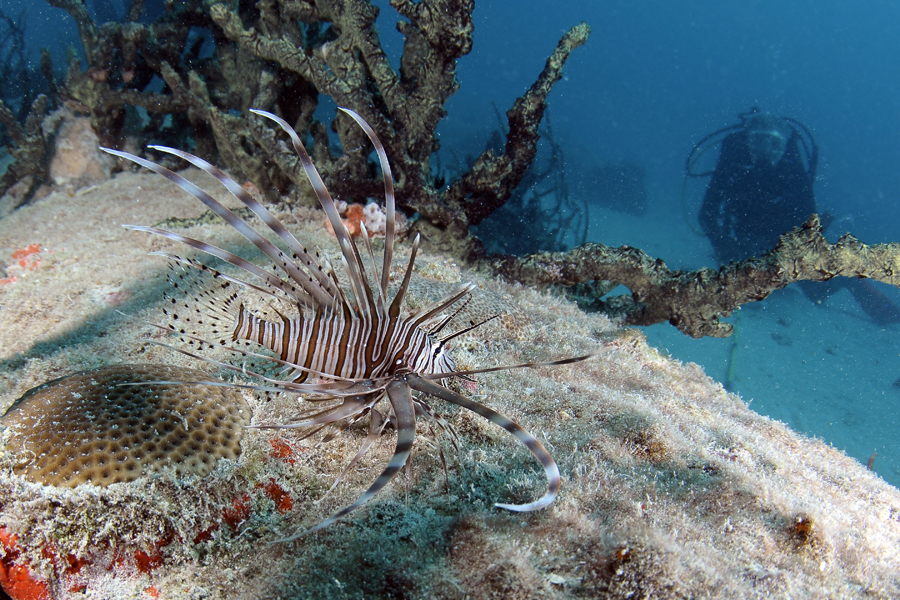Pterois_volitans: (142, 118, 567, 500)
